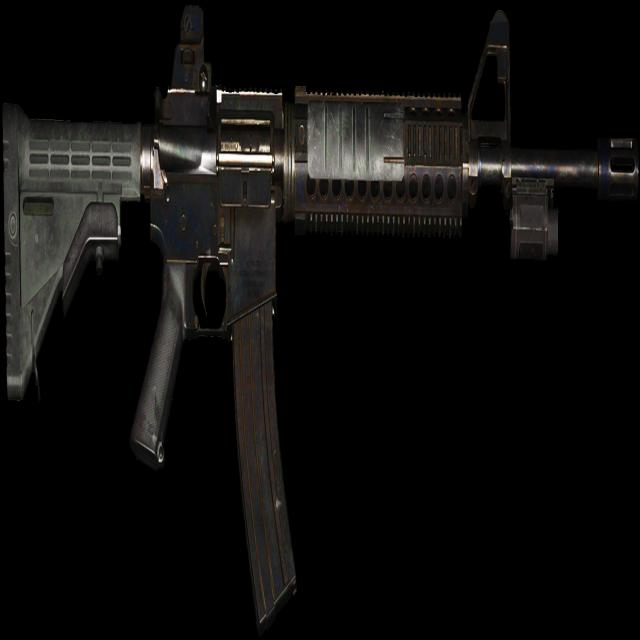Weapon: (1, 0, 637, 640)
